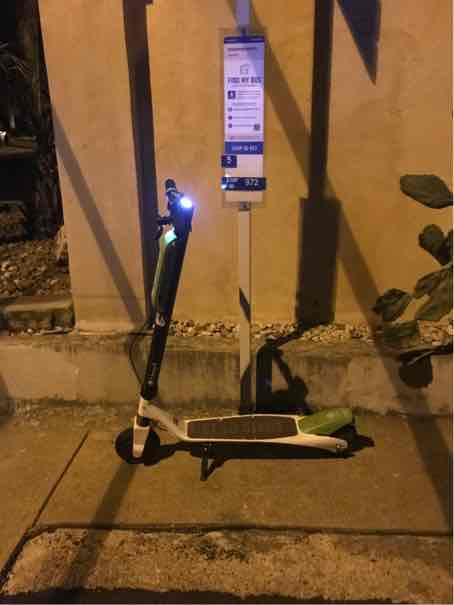scooter: (108, 169, 386, 482)
